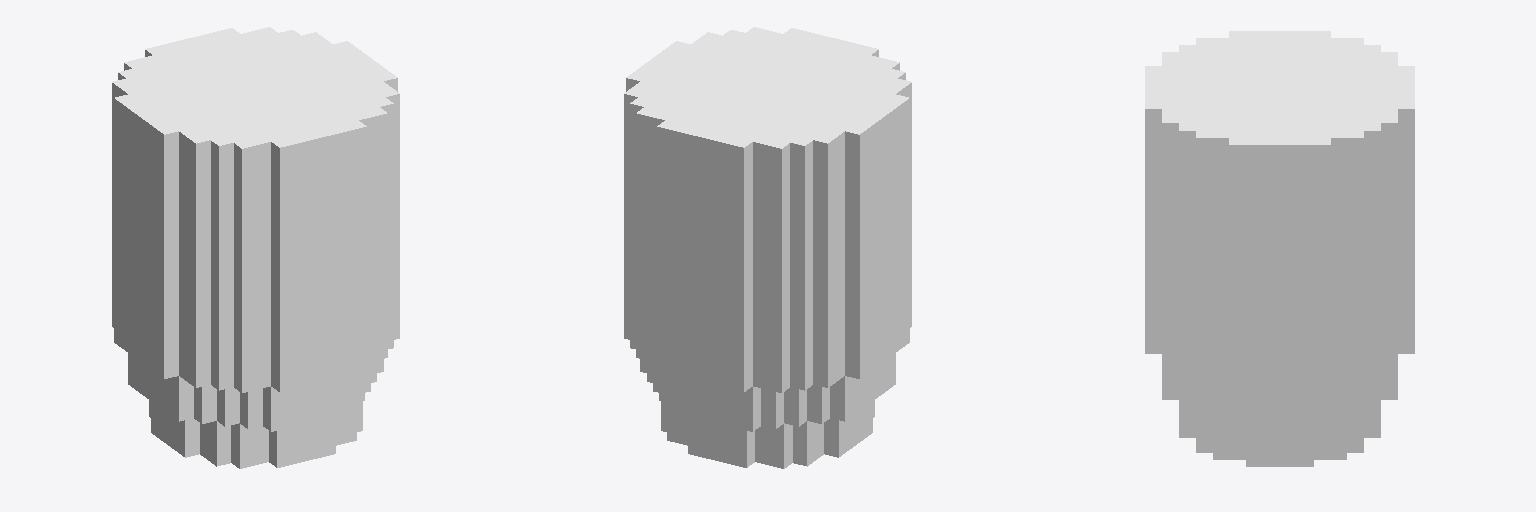
Rendered from cup_N.obj.
The picture shows the model from 3 angles: view 1: azimuth 30°, elevation 25°; view 2: azimuth 150°, elevation 25°; view 3: azimuth 270°, elevation 25°; orthographic projection.
Visible parts, largest first — view 1: object 1; view 2: object 1; view 3: object 1.
Part boxes in pixels (x1,y1,x2,y2): object 1: (112,27,399,468); object 1: (624,27,911,468); object 1: (1145,31,1414,466).
Bounding box in the file's own units: 1.6 × 2.2 × 1.6.